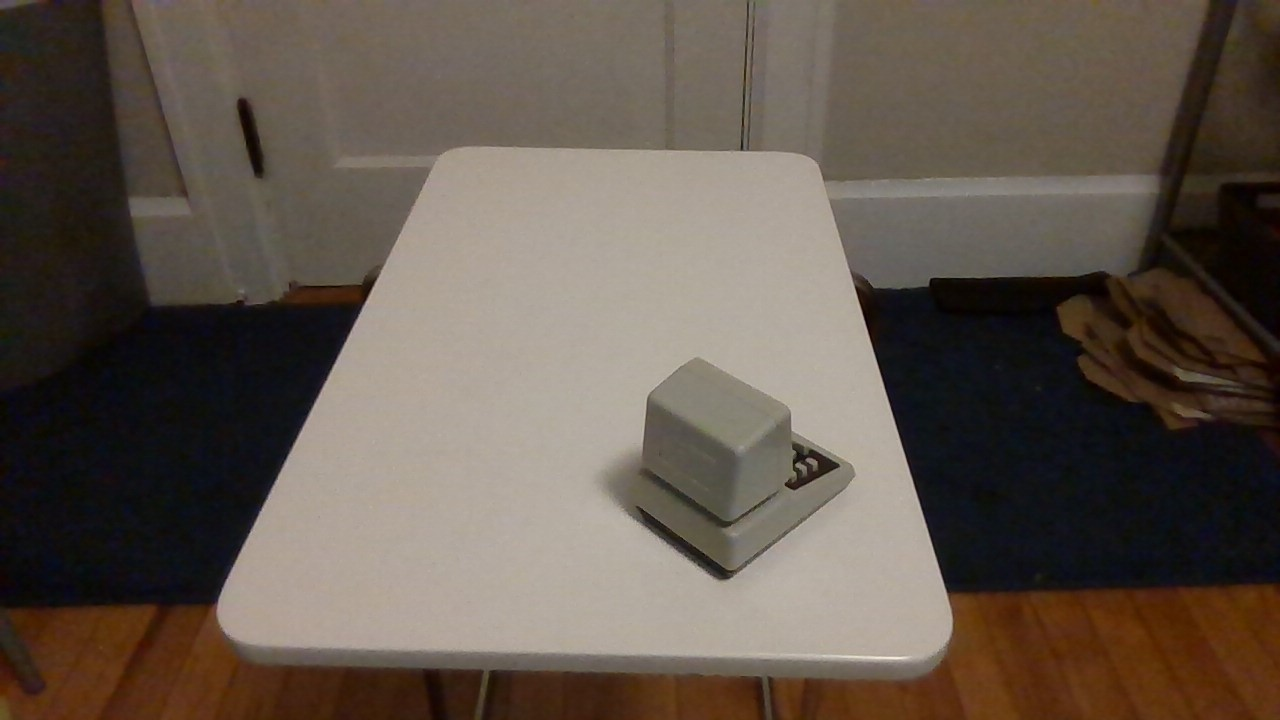Toy: (614, 332, 860, 577)
